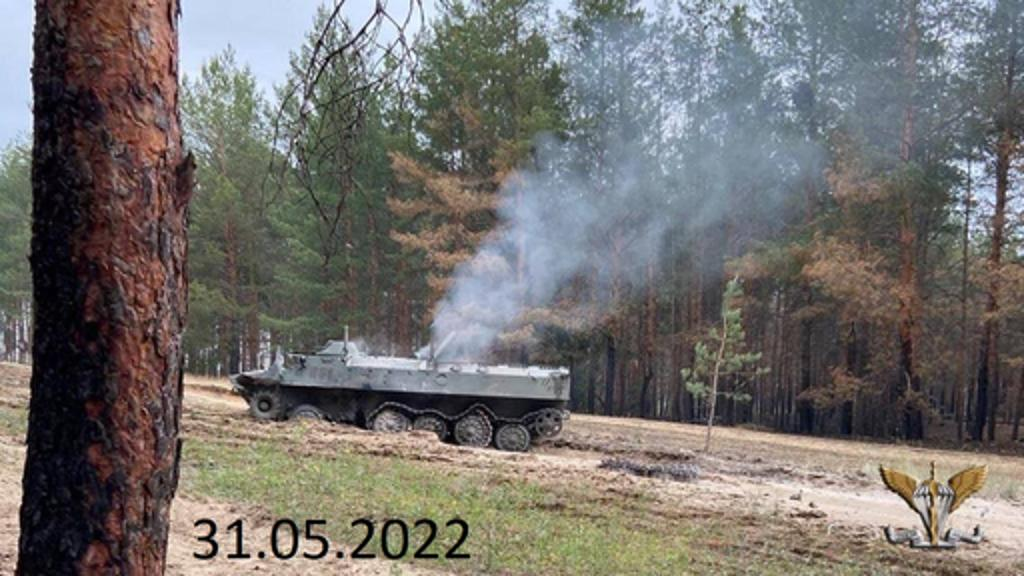APC-IFV: (218, 326, 576, 462)
